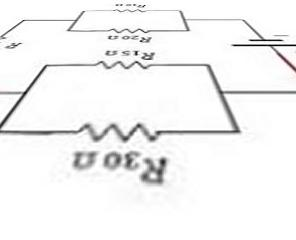resistor: (66, 113, 170, 140), (82, 55, 157, 77), (103, 23, 154, 34)
